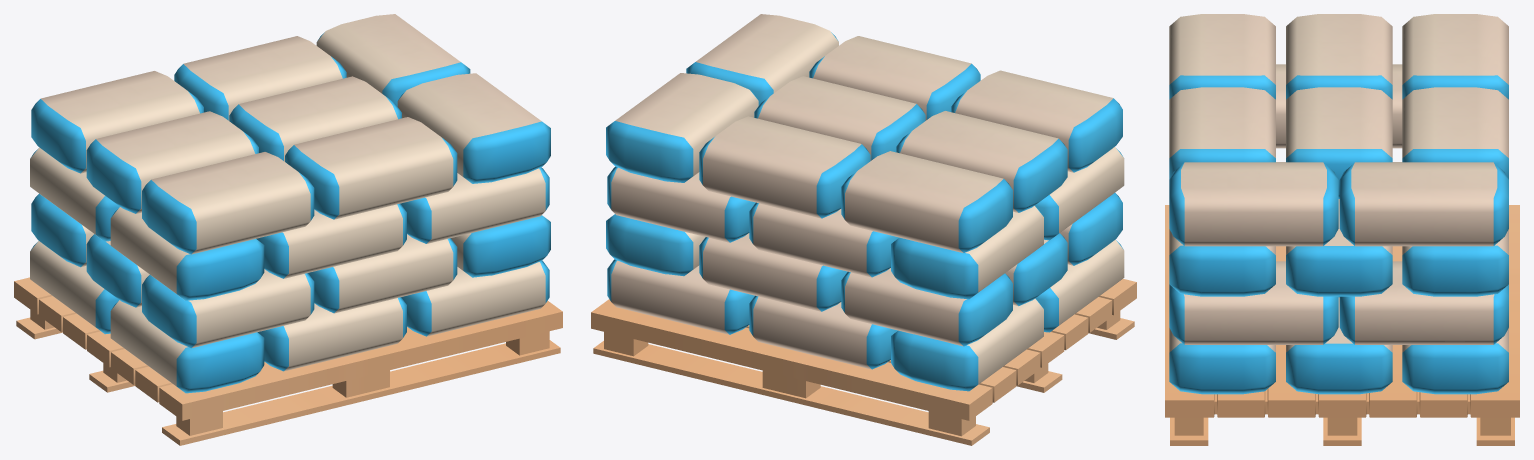
Rendered from Pallet_3.fbx.
3 renders of one model, left to right at view 1: azimuth 30°, elevation 25°; view 2: azimuth 150°, elevation 25°; view 3: azimuth 270°, elevation 25°, orthographic. The views are drawn at different scales.
Visible parts, largest first — view 1: Cement2, Pallet_3; view 2: Cement2, Pallet_3; view 3: Cement2, Pallet_3.
Part boxes in pixels (x1,y1,x2,y2): Cement2: [30, 14, 550, 393]; Pallet_3: [14, 277, 562, 445]; Cement2: [606, 14, 1124, 391]; Pallet_3: [591, 279, 1136, 445]; Cement2: [1169, 14, 1508, 394]; Pallet_3: [1165, 205, 1519, 445].
Bounding box in the file's own units: 420 × 243 × 322.
